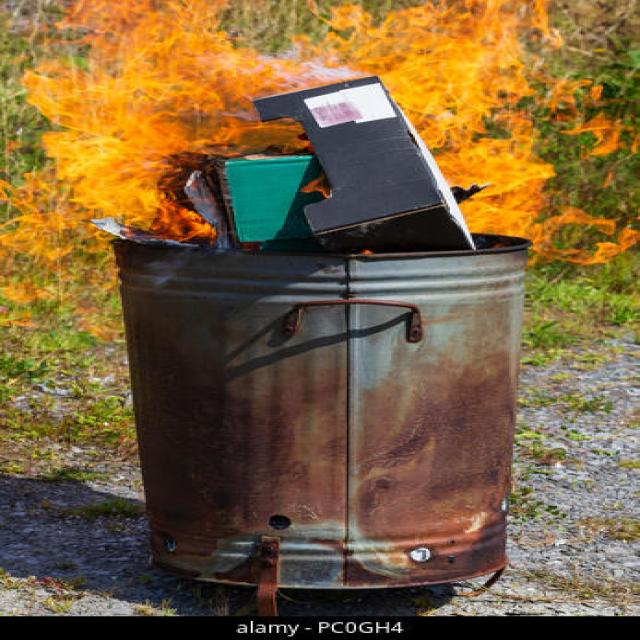cardboard: (238, 108, 448, 243)
metal: (159, 285, 509, 545)
